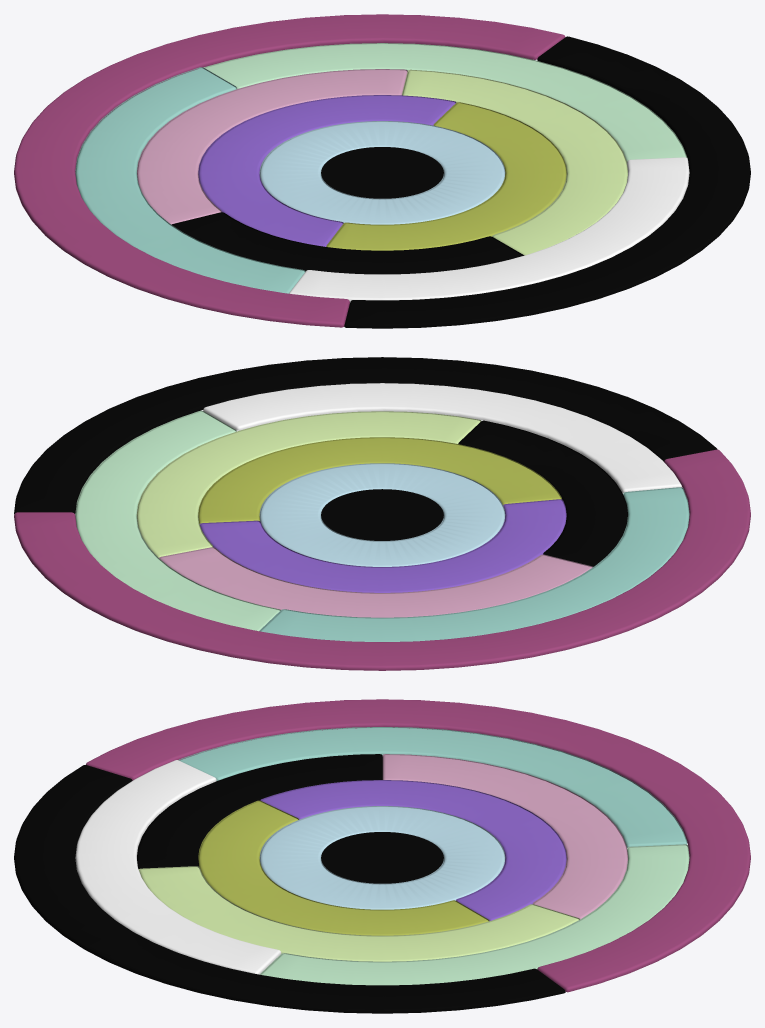
File: Bullseye.glb
3 renders of one model, top to bottom at view 1: azimuth 30°, elevation 25°; view 2: azimuth 150°, elevation 25°; view 3: azimuth 270°, elevation 25°, orthographic.
Parts seen in each view (by area): view 1: Object002, Object, Object006, Object020, Object004, Object008, Object010, Object016, Object012, Object018, Object014, Object022; view 2: Object002, Object, Object006, Object008, Object020, Object004, Object010, Object016, Object018, Object012, Object014, Object022; view 3: Object002, Object, Object006, Object020, Object008, Object004, Object010, Object016, Object012, Object018, Object014, Object022.
Part boxes in pixels (left/top/right/bottom): Object002: left=14, top=14, right=565, bottom=327; Object: left=344, top=36, right=750, bottom=328; Object006: left=75, top=67, right=305, bottom=293; Object020: left=259, top=121, right=505, bottom=224; Object004: left=204, top=43, right=687, bottom=162; Object008: left=289, top=157, right=689, bottom=301; Object010: left=402, top=69, right=627, bottom=255; Object016: left=198, top=95, right=456, bottom=246; Object012: left=137, top=69, right=407, bottom=224; Object018: left=326, top=102, right=566, bottom=250; Object014: left=171, top=212, right=524, bottom=274; Object022: left=321, top=147, right=443, bottom=198; Object002: left=14, top=449, right=750, bottom=670; Object: left=14, top=357, right=717, bottom=513; Object006: left=259, top=487, right=689, bottom=641; Object008: left=203, top=383, right=681, bottom=492; Object020: left=259, top=463, right=505, bottom=566; Object004: left=75, top=410, right=280, bottom=631; Object010: left=136, top=411, right=481, bottom=557; Object016: left=199, top=499, right=566, bottom=592; Object018: left=198, top=437, right=561, bottom=523; Object012: left=159, top=547, right=593, bottom=617; Object014: left=458, top=420, right=627, bottom=566; Object022: left=321, top=489, right=443, bottom=540; Object002: left=86, top=699, right=750, bottom=992; Object: left=14, top=765, right=565, bottom=1013; Object006: left=178, top=727, right=687, bottom=847; Object020: left=259, top=806, right=505, bottom=909; Object008: left=75, top=760, right=281, bottom=974; Object004: left=260, top=844, right=689, bottom=985; Object010: left=138, top=866, right=579, bottom=961; Object016: left=260, top=780, right=566, bottom=920; Object012: left=382, top=754, right=627, bottom=919; Object018: left=198, top=800, right=489, bottom=935; Object014: left=137, top=754, right=382, bottom=868; Object022: left=321, top=832, right=443, bottom=883.
Bounding box in the file's own units: 2 × 0.1115 × 2.
